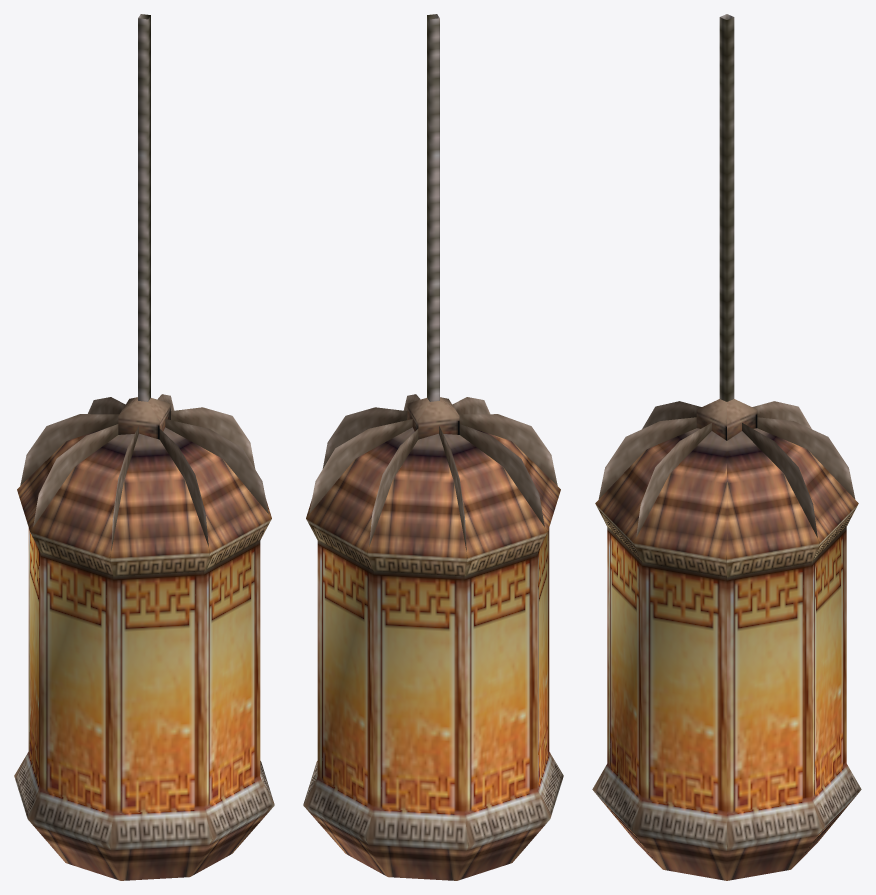
File: SwordSpirit_Room_light.FBX
The picture shows the model from 3 angles, left to right: view 1: azimuth 30°, elevation 25°; view 2: azimuth 150°, elevation 25°; view 3: azimuth 270°, elevation 25°; orthographic projection.
Visible parts, largest first — view 1: Object003; view 2: Object003; view 3: Object003.
Boxes of the visible parts, bbox=[...] form: Object003: bbox=[14, 14, 274, 880]; Object003: bbox=[303, 14, 563, 880]; Object003: bbox=[592, 14, 861, 880].
Size of the model in its own units: 97.19 by 338 by 97.19.
Materials: 1 (1 with a texture image).
